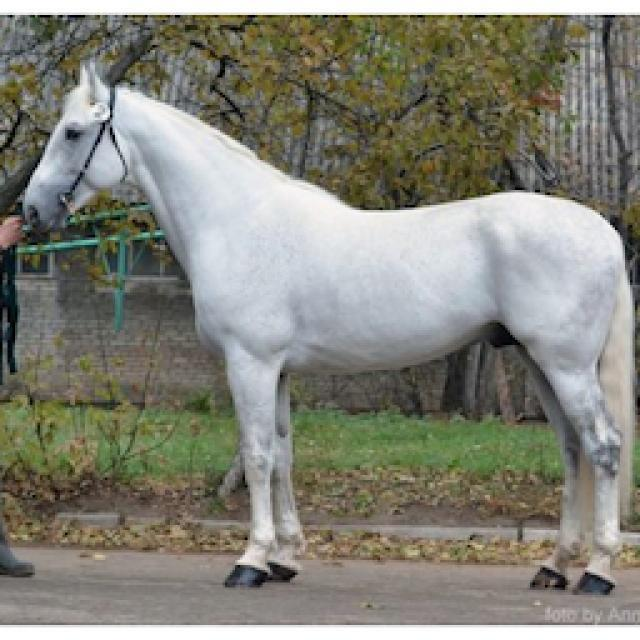Horse: (15, 55, 638, 598)
